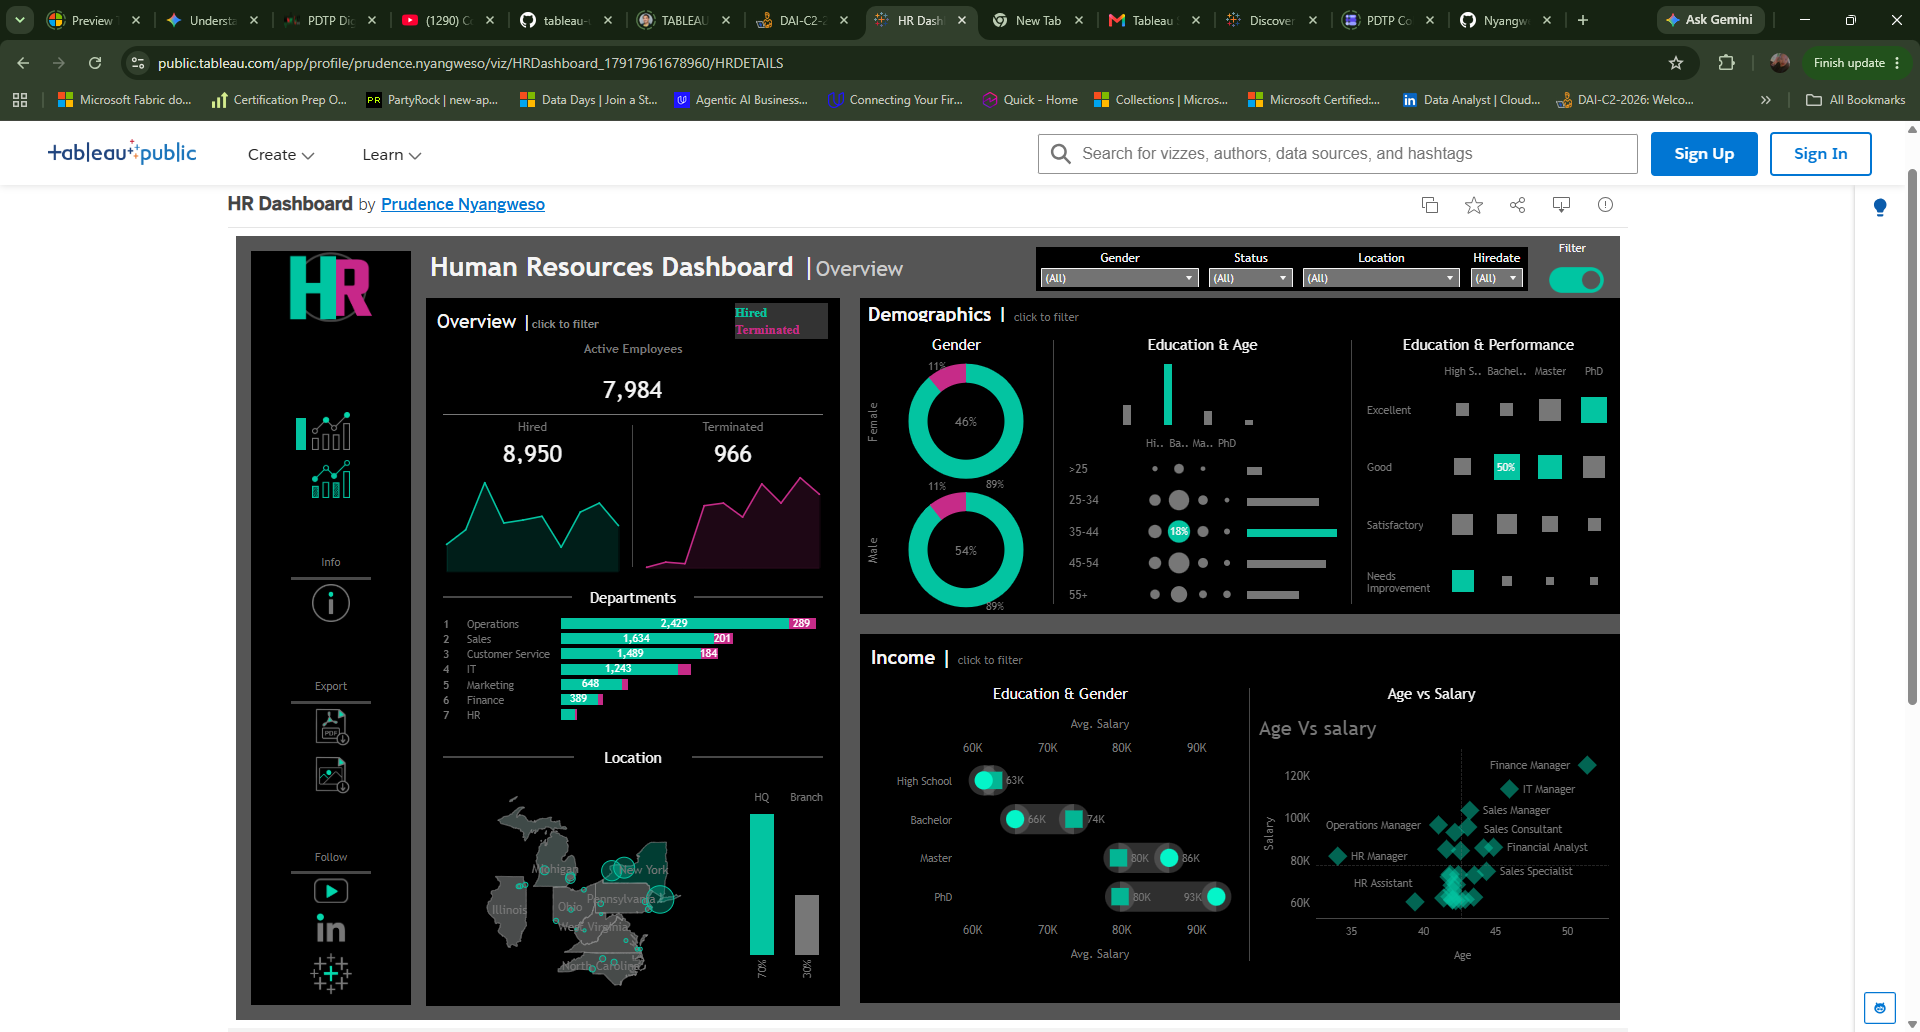

The page's visual inventory and layout, read from the dashboard file:
{"tool":"tableau","page":{"name":"HR | Summary","canvas":[1400,800],"ordinal":1},"visuals":[{"type":"text","box":[198,8,1194,62]},{"type":"blank","box":[188,9,1204,284]},{"type":"text","box":[1309,12,71,16]},{"type":"filter","title":"Gender","param":"[federated.0jj32j30cj3pbe1994f1u147nq3c].[none:Gender:nk]","box":[808,19,167.5,44]},{"type":"filter","title":"Gender vs Education Level","param":"[federated.0jj32j30cj3pbe1994f1u147nq3c].[none:Calculation_1313145641361423:nk]","box":[975.5,19,95,44]},{"type":"filter","title":"Education vs performance","param":"[federated.0jj32j30cj3pbe1994f1u147nq3c].[none:Calculation_1313145250975754:nk]","box":[1070.5,19,167.5,44]},{"type":"filter","title":"Age vs Education","param":"[federated.0jj32j30cj3pbe1994f1u147nq3c].[yr:Hiredate:ok]","box":[1238,19,62,44]},{"type":"image","param":"Image/Logo.png","box":[23,23,160,71]},{"type":"dashboard-object","box":[1317,39,63,26]},{"type":"text","box":[507,75,93,36]},{"type":"text","box":[205,77,400,31]},{"type":"text","box":[640,78,744,16]},{"type":"blank","box":[23,94,160,80]},{"type":"text","box":[632,102,193,26]},{"type":"blank","box":[825,102,1,284]},{"type":"text","box":[831,102,287,26]},{"type":"blank","box":[1123,102,1,284]},{"type":"text","box":[1129,102,263,26]},{"type":"text","box":[205,108,400,29]},{"type":"worksheet","title":"Gender","mark":"Pie","rows":["Gender"],"cols":["Calculation_1313145263394828","Calculation_1313145263394828"],"box":[632,128,193,258]},{"type":"worksheet","title":"Education Levels","mark":"Bar","rows":["Calculation_1313145234075648"],"cols":["Education Level"],"box":[831,128,287,72]},{"type":"worksheet","title":"Education vs performance","mark":"Square","rows":["Performance Rating"],"cols":["Education Level"],"box":[1129,128,263,258]},{"type":"worksheet","title":"BAN Active","mark":"Text","box":[205,137,400,49]},{"type":"dashboard-object","box":[33,184,140,38]},{"type":"blank","box":[205,186,400,1]},{"type":"text","box":[205,187,199,22]},{"type":"blank","box":[404,187,1,162]},{"type":"text","box":[405,187,199.9,22]},{"type":"blank","box":[68,190,10,32]},{"type":"worksheet","title":"Age vs Education","mark":"Circle","rows":["Calculation_1313145270046734"],"cols":["Education Level"],"box":[831,200,184,186]},{"type":"worksheet","title":"Age Groups","mark":"Bar","rows":["Calculation_1313145270046734"],"cols":["Calculation_1313145234075648"],"box":[1015,200,103,186]},{"type":"worksheet","title":"BAN Hired","mark":"Text","box":[205,209,199,30]},{"type":"worksheet","title":"BAN Terminated","mark":"Text","box":[405,209,199.9,30]},{"type":"blank","box":[33,222,140,10]},{"type":"dashboard-object","box":[33,232,140,38]},{"type":"worksheet","title":"Hired By Year","mark":"Line","rows":["Calculation_1313145234075648","Calculation_1313145234075648"],"cols":["Hiredate"],"box":[205,239,199,110]},{"type":"worksheet","title":"Terminated By Year","mark":"Line","rows":["Calculation_1313145234640897","Calculation_1313145234640897"],"cols":["Termdate"],"box":[405,239,199.9,110]},{"type":"blank","box":[33,270,140,53.1]},{"type":"text","box":[188,293,1204,175]},{"type":"text","box":[33,323.1,140,21]},{"type":"blank","box":[33,344.1,140,11]},{"type":"blank","box":[215,354,129.3,30]},{"type":"text","box":[344.3,354,121.3,30]},{"type":"blank","box":[465.7,354,129.3,30]},{"type":"dashboard-object","box":[33,355.1,140,38]},{"type":"worksheet","title":"Departments","mark":"Bar","rows":["Calculation_1313145248894985","Department"],"cols":["Calculation_1313145234075648"],"box":[205,384,400,114]},{"type":"blank","box":[33,393.1,140,53.1]},{"type":"text","box":[639,413,746,32]},{"type":"text","box":[33,446.3,140,21]},{"type":"text","box":[644,450,377.5,27]},{"type":"blank","box":[1021.5,450,1,293]},{"type":"text","box":[1022.5,450,362.5,27]},{"type":"blank","box":[33,467.3,140,11]},{"type":"blank","box":[188,468,1204,323]},{"type":"worksheet","title":"Gender vs Education Level","mark":"Square","rows":["Education Level"],"cols":["Salary","Salary"],"box":[644,477,377.5,266]},{"type":"worksheet","title":"Age Vs salary","mark":"Shape","rows":["Salary"],"cols":["Calculation_1313145268764685"],"box":[1022.5,477,362.5,266]},{"type":"dashboard-object","box":[33,478.3,140,38]},{"type":"blank","box":[215,503,130.7,52]},{"type":"text","box":[345.7,503,118.7,52]},{"type":"blank","box":[464.3,503,130.7,52]},{"type":"blank","box":[33,516.3,140,10]},{"type":"dashboard-object","box":[33,526.3,140,38]},{"type":"worksheet","title":"Map States","mark":"Automatic","box":[205,555,302,216]},{"type":"worksheet","title":"Location","mark":"Bar","rows":["Calculation_1313145234075648"],"cols":["Calculation_1313145250975754","Calculation1"],"box":[507,555,98,216]},{"type":"blank","box":[33,564.3,140,53.1]},{"type":"text","box":[33,617.4,140,20]},{"type":"blank","box":[33,637.4,140,11]},{"type":"image","param":"Image/contact-channel.png","box":[33,648.4,140,25]},{"type":"blank","box":[33,673.4,140,10]},{"type":"image","param":"Image/contact-linkedin.png","box":[33,683.4,140,30]},{"type":"blank","box":[33,713.4,140,10]},{"type":"image","param":"Image/contact-public.png","box":[33,723.4,140,43.6]}]}

Visuals, with their boxes on the page's 1400x800 design canvas (x1, y1, x2, y2). These are canvas units, not pixel positions in the 1920x1032 screenshot, which may show the page scaled, cropped or inside an application window:
text: pyautogui.locateOnScreen(198, 8, 1392, 70)
blank: pyautogui.locateOnScreen(188, 9, 1392, 293)
text: pyautogui.locateOnScreen(1309, 12, 1380, 28)
"Gender" filter: pyautogui.locateOnScreen(808, 19, 976, 63)
"Gender vs Education Level" filter: pyautogui.locateOnScreen(976, 19, 1070, 63)
"Education vs performance" filter: pyautogui.locateOnScreen(1070, 19, 1238, 63)
"Age vs Education" filter: pyautogui.locateOnScreen(1238, 19, 1300, 63)
image: pyautogui.locateOnScreen(23, 23, 183, 94)
dashboard-object: pyautogui.locateOnScreen(1317, 39, 1380, 65)
text: pyautogui.locateOnScreen(507, 75, 600, 111)
text: pyautogui.locateOnScreen(205, 77, 605, 108)
text: pyautogui.locateOnScreen(640, 78, 1384, 94)
blank: pyautogui.locateOnScreen(23, 94, 183, 174)
text: pyautogui.locateOnScreen(632, 102, 825, 128)
blank: pyautogui.locateOnScreen(825, 102, 826, 386)
text: pyautogui.locateOnScreen(831, 102, 1118, 128)
blank: pyautogui.locateOnScreen(1123, 102, 1124, 386)
text: pyautogui.locateOnScreen(1129, 102, 1392, 128)
text: pyautogui.locateOnScreen(205, 108, 605, 137)
"Gender" worksheet (Pie marks): pyautogui.locateOnScreen(632, 128, 825, 386)
"Education Levels" worksheet (Bar marks): pyautogui.locateOnScreen(831, 128, 1118, 200)
"Education vs performance" worksheet (Square marks): pyautogui.locateOnScreen(1129, 128, 1392, 386)
"BAN Active" worksheet (Text marks): pyautogui.locateOnScreen(205, 137, 605, 186)
dashboard-object: pyautogui.locateOnScreen(33, 184, 173, 222)
blank: pyautogui.locateOnScreen(205, 186, 605, 187)
text: pyautogui.locateOnScreen(205, 187, 404, 209)
blank: pyautogui.locateOnScreen(404, 187, 405, 349)
text: pyautogui.locateOnScreen(405, 187, 605, 209)
blank: pyautogui.locateOnScreen(68, 190, 78, 222)
"Age vs Education" worksheet (Circle marks): pyautogui.locateOnScreen(831, 200, 1015, 386)
"Age Groups" worksheet (Bar marks): pyautogui.locateOnScreen(1015, 200, 1118, 386)
"BAN Hired" worksheet (Text marks): pyautogui.locateOnScreen(205, 209, 404, 239)
"BAN Terminated" worksheet (Text marks): pyautogui.locateOnScreen(405, 209, 605, 239)
blank: pyautogui.locateOnScreen(33, 222, 173, 232)
dashboard-object: pyautogui.locateOnScreen(33, 232, 173, 270)
"Hired By Year" worksheet (Line marks): pyautogui.locateOnScreen(205, 239, 404, 349)
"Terminated By Year" worksheet (Line marks): pyautogui.locateOnScreen(405, 239, 605, 349)
blank: pyautogui.locateOnScreen(33, 270, 173, 323)
text: pyautogui.locateOnScreen(188, 293, 1392, 468)
text: pyautogui.locateOnScreen(33, 323, 173, 344)
blank: pyautogui.locateOnScreen(33, 344, 173, 355)
blank: pyautogui.locateOnScreen(215, 354, 344, 384)
text: pyautogui.locateOnScreen(344, 354, 466, 384)
blank: pyautogui.locateOnScreen(466, 354, 595, 384)
dashboard-object: pyautogui.locateOnScreen(33, 355, 173, 393)
"Departments" worksheet (Bar marks): pyautogui.locateOnScreen(205, 384, 605, 498)
blank: pyautogui.locateOnScreen(33, 393, 173, 446)
text: pyautogui.locateOnScreen(639, 413, 1385, 445)
text: pyautogui.locateOnScreen(33, 446, 173, 467)
text: pyautogui.locateOnScreen(644, 450, 1022, 477)
blank: pyautogui.locateOnScreen(1022, 450, 1022, 743)
text: pyautogui.locateOnScreen(1022, 450, 1385, 477)
blank: pyautogui.locateOnScreen(33, 467, 173, 478)
blank: pyautogui.locateOnScreen(188, 468, 1392, 791)
"Gender vs Education Level" worksheet (Square marks): pyautogui.locateOnScreen(644, 477, 1022, 743)
"Age Vs salary" worksheet (Shape marks): pyautogui.locateOnScreen(1022, 477, 1385, 743)
dashboard-object: pyautogui.locateOnScreen(33, 478, 173, 516)
blank: pyautogui.locateOnScreen(215, 503, 346, 555)
text: pyautogui.locateOnScreen(346, 503, 464, 555)
blank: pyautogui.locateOnScreen(464, 503, 595, 555)
blank: pyautogui.locateOnScreen(33, 516, 173, 526)
dashboard-object: pyautogui.locateOnScreen(33, 526, 173, 564)
"Map States" worksheet: pyautogui.locateOnScreen(205, 555, 507, 771)
"Location" worksheet (Bar marks): pyautogui.locateOnScreen(507, 555, 605, 771)
blank: pyautogui.locateOnScreen(33, 564, 173, 617)
text: pyautogui.locateOnScreen(33, 617, 173, 637)
blank: pyautogui.locateOnScreen(33, 637, 173, 648)
image: pyautogui.locateOnScreen(33, 648, 173, 673)
blank: pyautogui.locateOnScreen(33, 673, 173, 683)
image: pyautogui.locateOnScreen(33, 683, 173, 713)
blank: pyautogui.locateOnScreen(33, 713, 173, 723)
image: pyautogui.locateOnScreen(33, 723, 173, 767)
